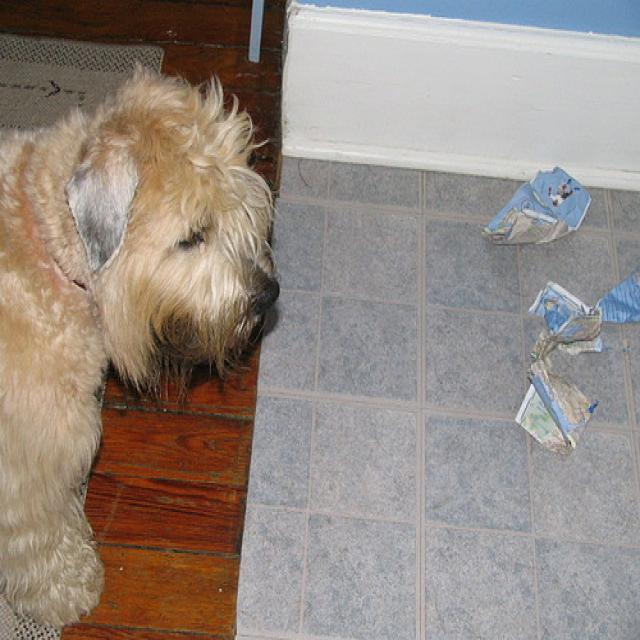dog-wheaten_terrier: (1, 63, 283, 637)
